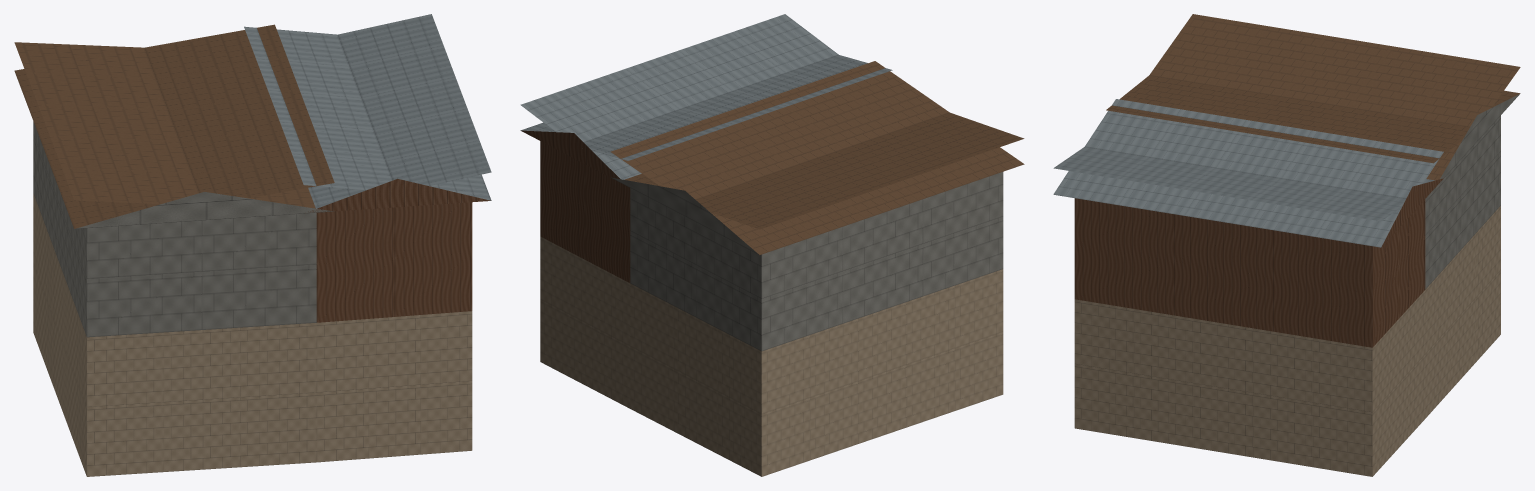
Rendered from bld_c31_-37_462.gltf.
The picture shows the model from 3 angles, left to right: view 1: azimuth 30°, elevation 25°; view 2: azimuth 150°, elevation 25°; view 3: azimuth 270°, elevation 25°; orthographic projection. The views are drawn at different scales.
Parts seen in each view (by area): view 1: bld_c31_-37_462; view 2: bld_c31_-37_462; view 3: bld_c31_-37_462.
Boxes of the visible parts, bbox=[...] form: bld_c31_-37_462: bbox=[14, 14, 491, 476]; bld_c31_-37_462: bbox=[520, 14, 1024, 476]; bld_c31_-37_462: bbox=[1053, 14, 1520, 476].
Bounding box in the file's own units: 16.87 × 10 × 16.08.
Materials: 7 (7 with a texture image).
